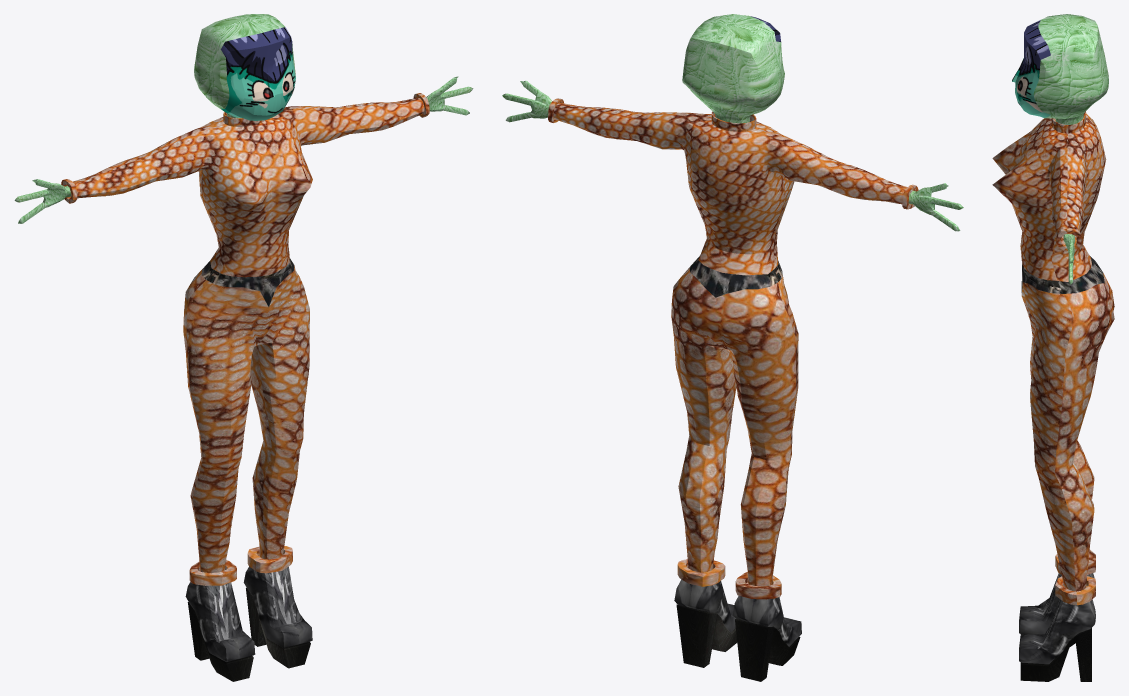
File: VJBT-character3.obj
3 views of the same model, side by side, from view 1: azimuth 30°, elevation 25°; view 2: azimuth 150°, elevation 25°; view 3: azimuth 270°, elevation 25° (orthographic).
Visible parts, largest first — view 1: Character3 VJBT_Character3; view 2: Character3 VJBT_Character3; view 3: Character3 VJBT_Character3.
Boxes of the visible parts, left/top/right/bottom form: Character3 VJBT_Character3: left=14, top=14, right=473, bottom=681; Character3 VJBT_Character3: left=502, top=14, right=963, bottom=681; Character3 VJBT_Character3: left=992, top=14, right=1114, bottom=681.
Bounding box in the file's own units: 5.91 × 7.82 × 1.35.
5 materials, 5 textured.
